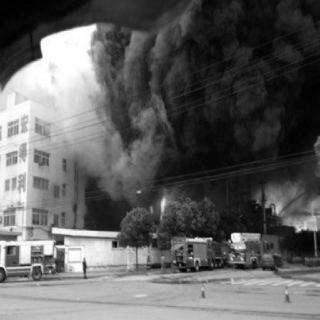Fire: (146, 184, 226, 226)
Smoke: (32, 0, 318, 186)
